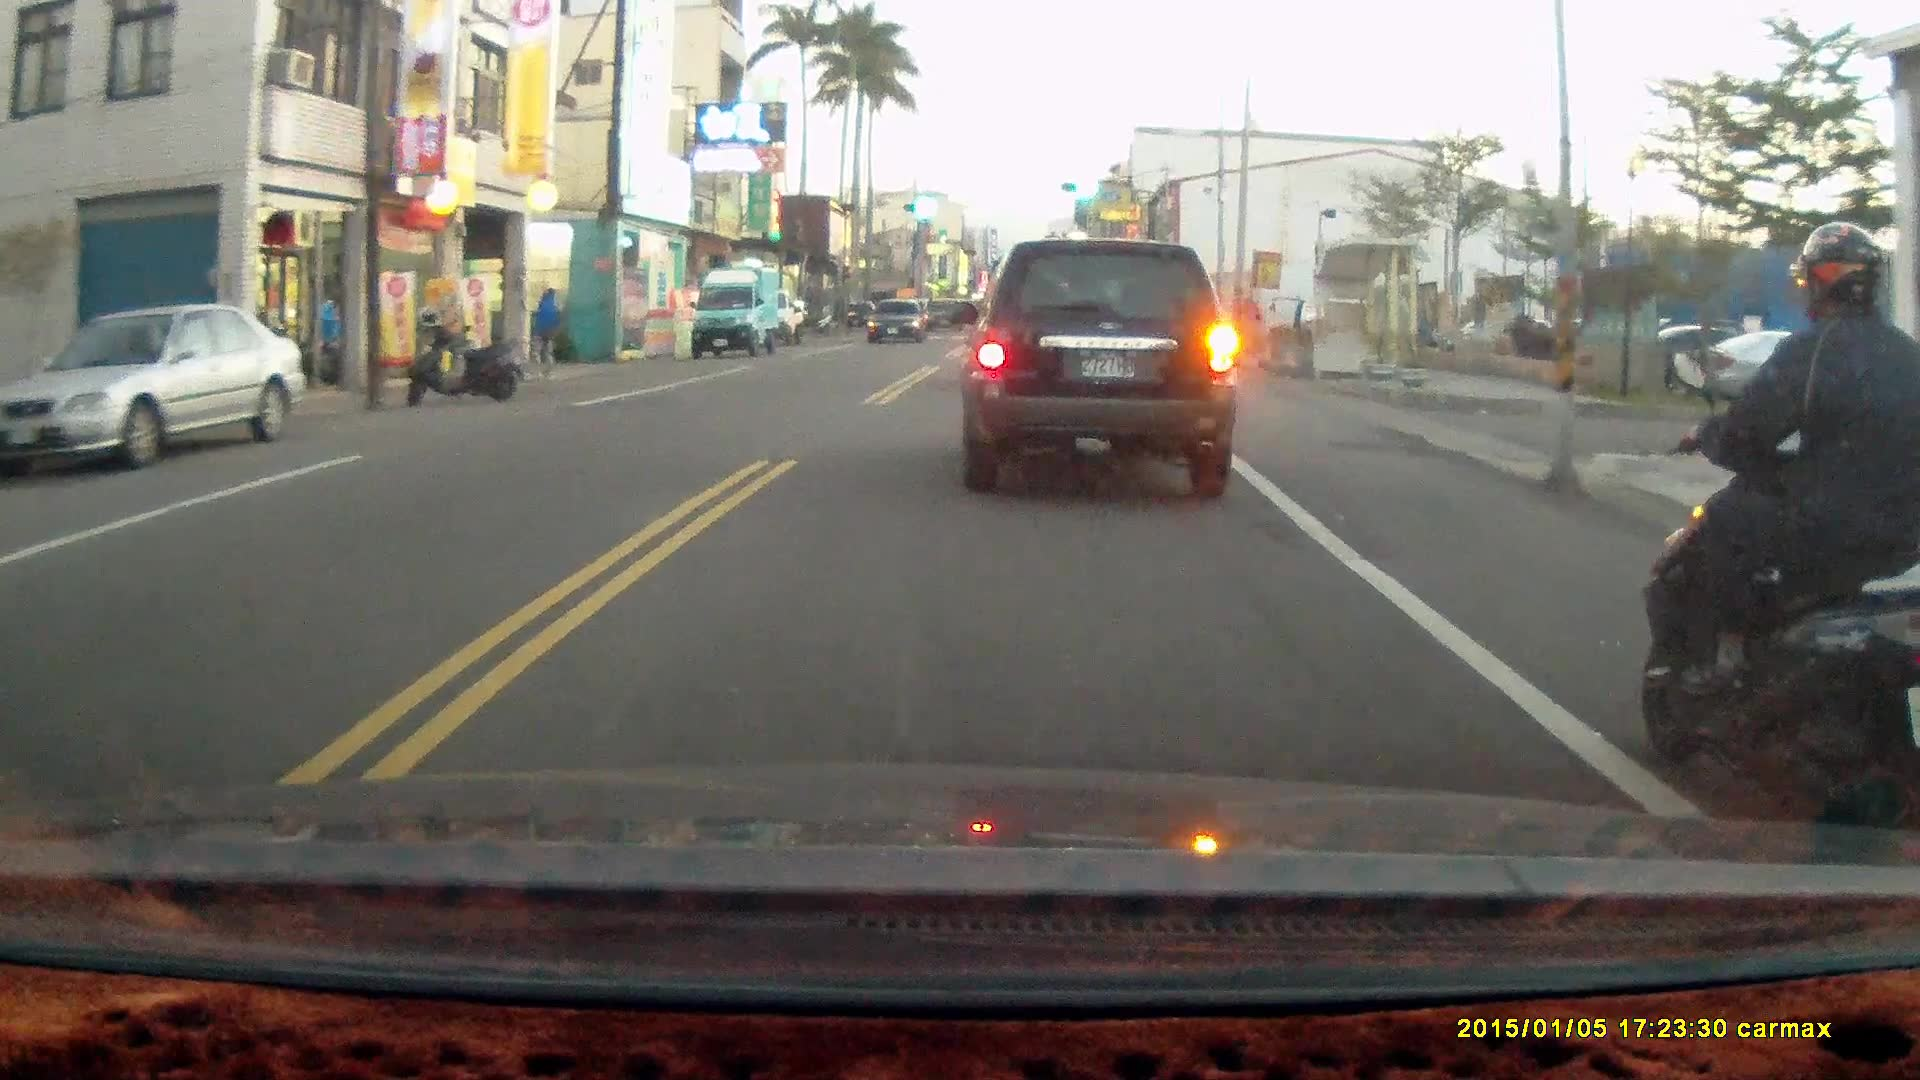pedestrian: (527, 283, 560, 380)
rider: (1636, 220, 1920, 866)
vehicle: (959, 237, 1240, 504), (6, 305, 305, 473), (690, 262, 786, 360), (865, 297, 929, 344)
